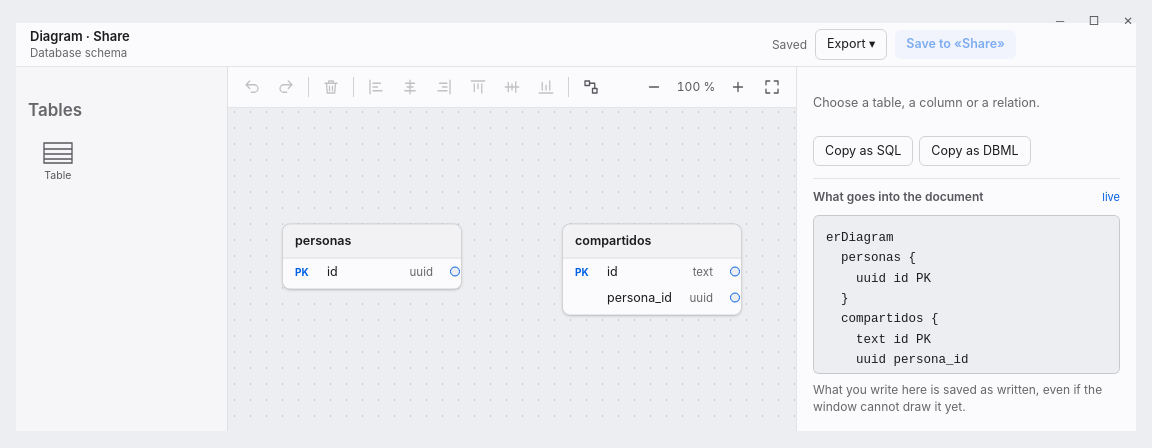
a database schema in the diagram window › makes a related table where a column's dot is let go on nothing
Press the mouse on the 3rd element named "Drag onto another table to relate them" at point(735, 298), box [730,292,740,302]
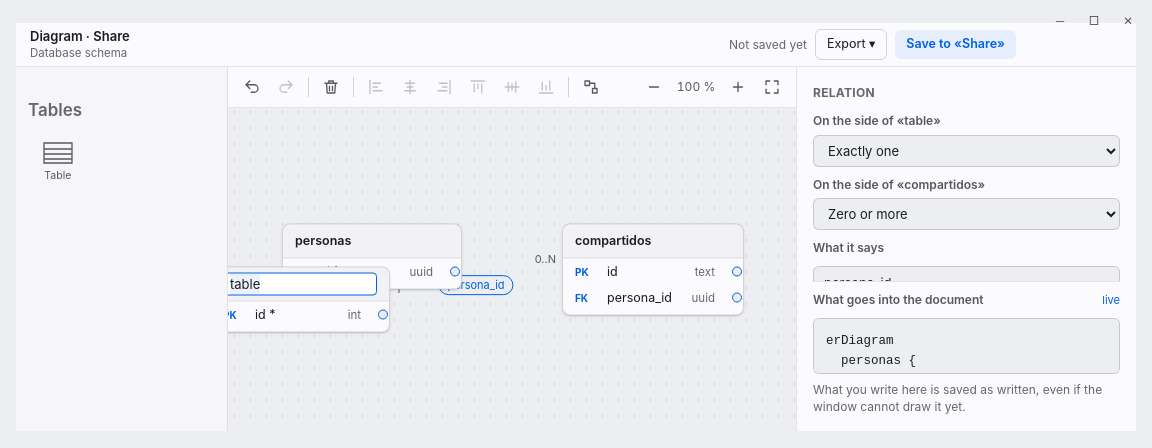
Expected: the field named "Name" is shown, [228,272,377,296]
